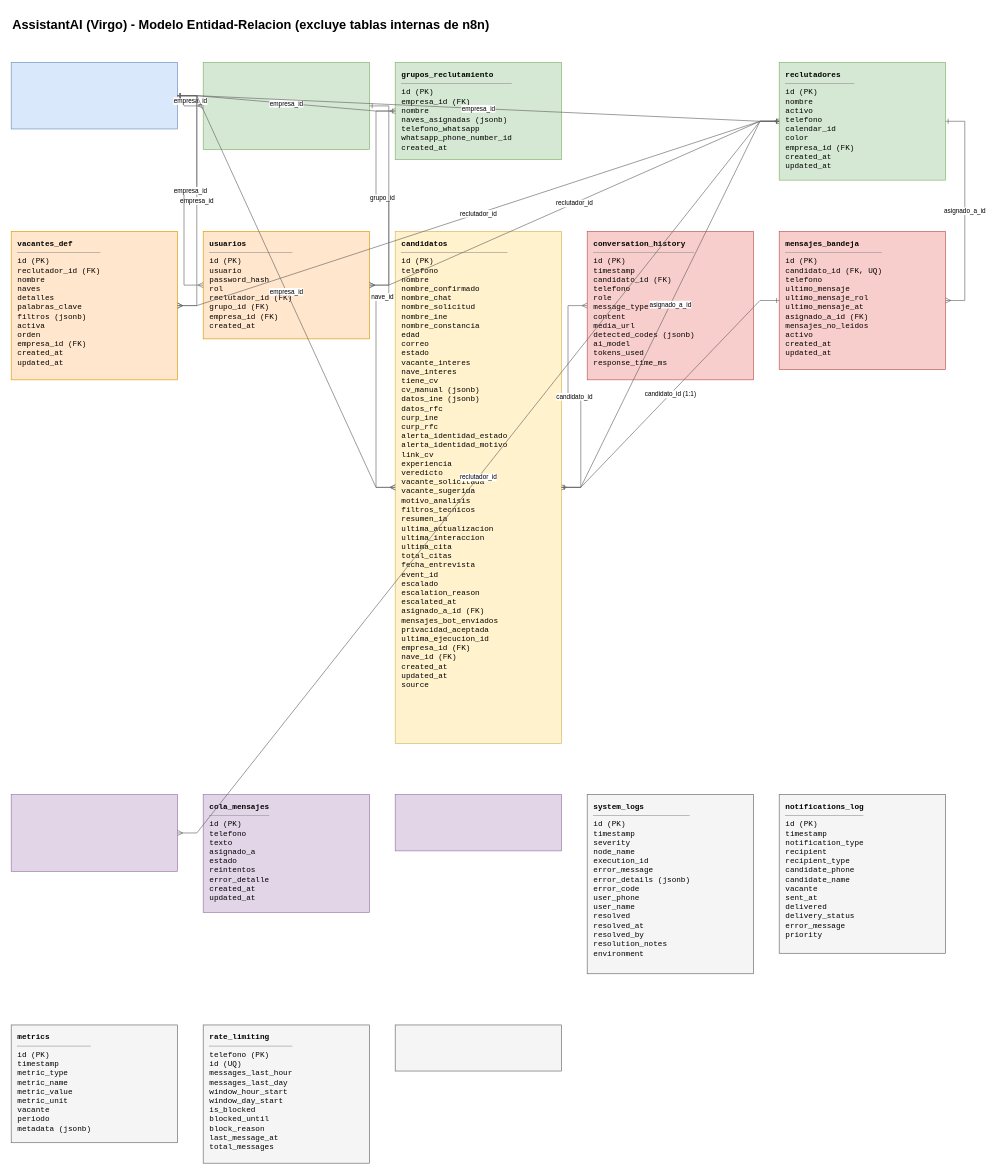
The diagram is 996 pixels wide and 1174 high, and some of its shapes have lost their labels. Each missing label, with the centre of its shape:
"empresas id (PK) nombre prompt_ia created_at" goes at point (94, 95).
"naves id (PK) empresa_id (FK) nombre rfc ubicacion_maps created_at" goes at point (286, 105).
"notificaciones id (PK) reclutador_id (FK) mensaje leida created_at" goes at point (94, 832).
"processed_webhooks message_id (PK) processed_at" goes at point (478, 1047).
"reclutadores_turno grupo (PK) ultimo_index updated_at" goes at point (478, 822).
